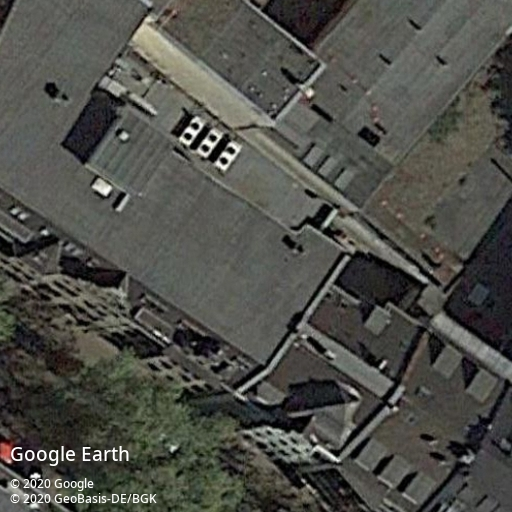Chiller: (179, 115, 207, 147), (197, 126, 225, 158), (214, 139, 242, 171)
